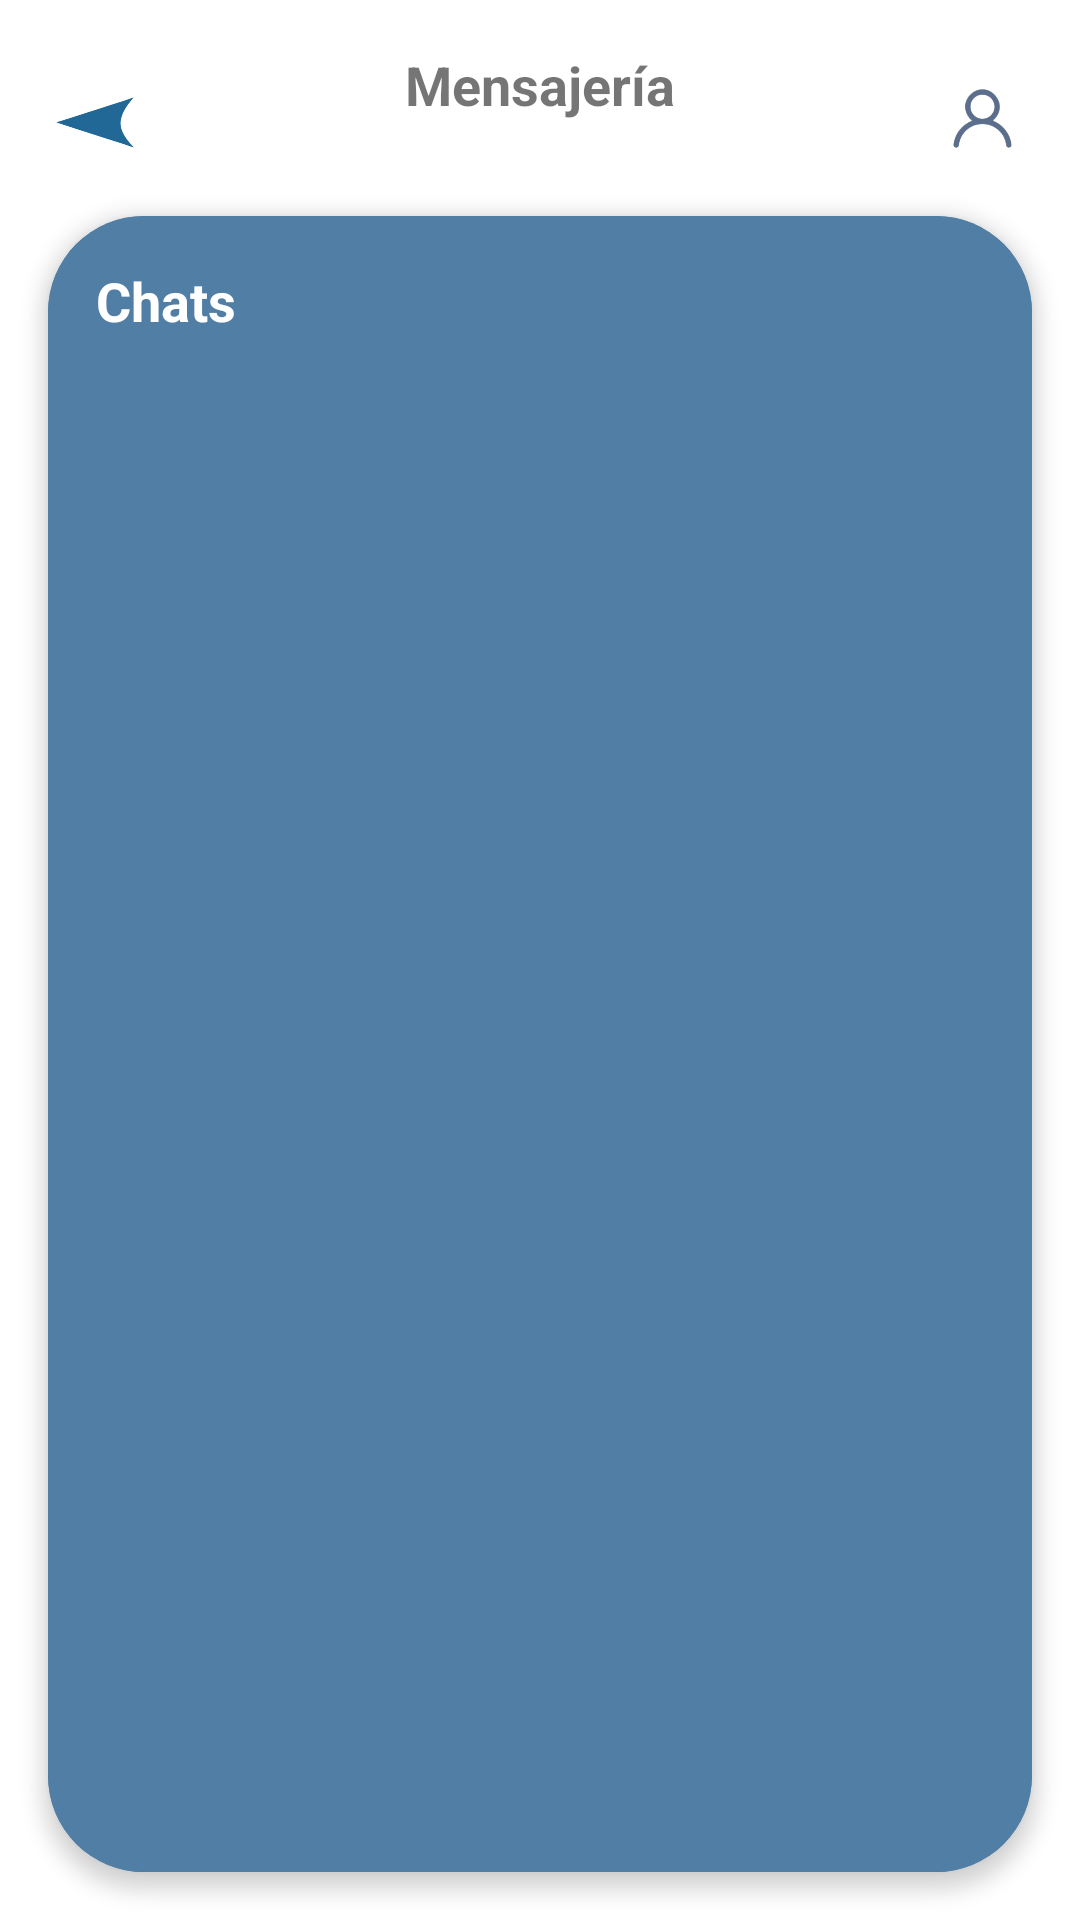

Icons on this 1080x1920 Android screen, each with its box as Rect(x1, y1, x2, y2):
perfil: Rect(953, 89, 1012, 148)
